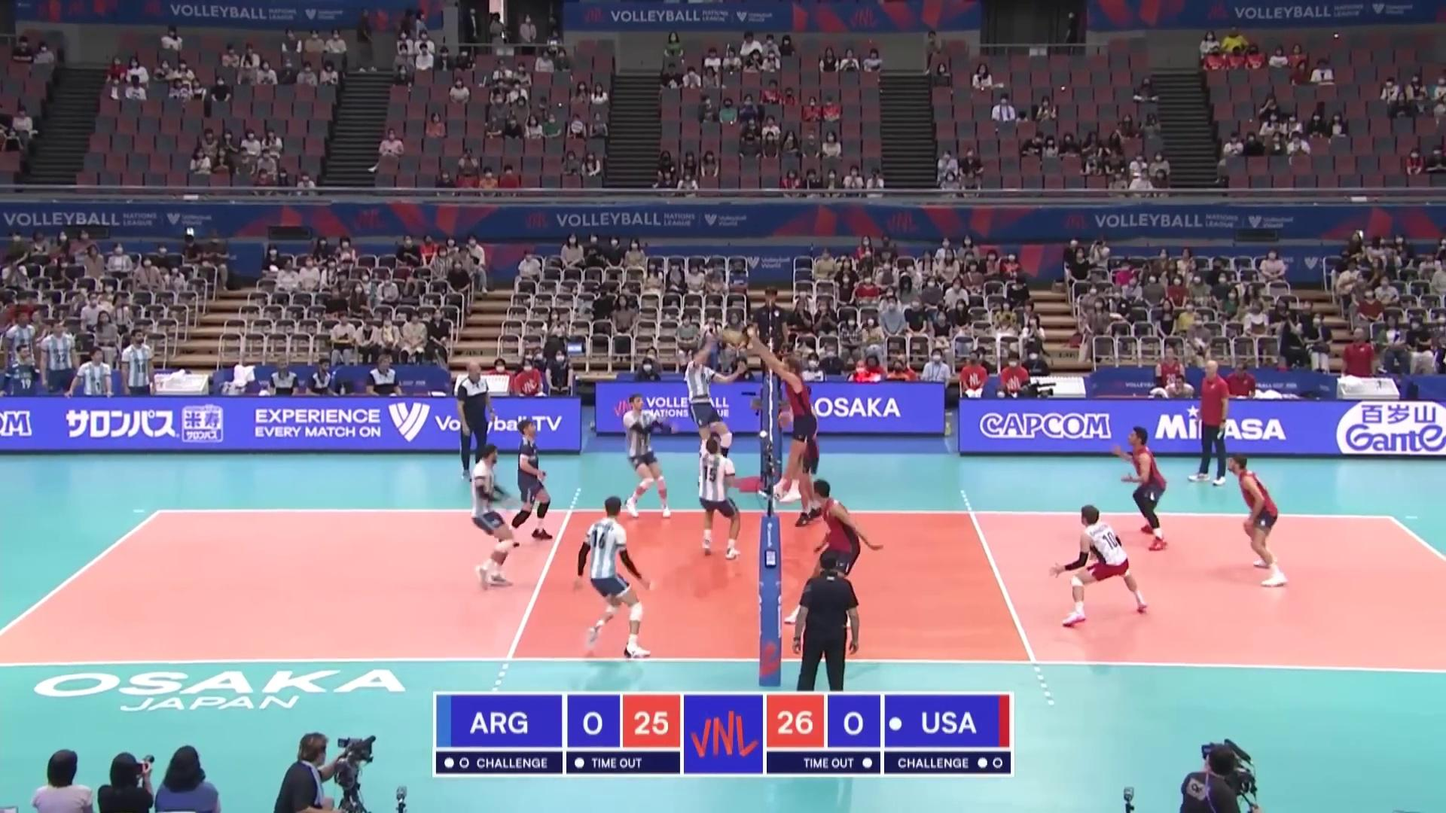player: (572, 494, 652, 663), (787, 480, 877, 627), (1053, 505, 1147, 629), (1226, 453, 1286, 586), (468, 445, 520, 589), (766, 357, 817, 502), (501, 420, 555, 549), (621, 394, 675, 520), (688, 346, 738, 481), (1120, 425, 1170, 552), (699, 437, 744, 562), (786, 382, 825, 525)
refree: (795, 551, 862, 689), (751, 287, 791, 395)
